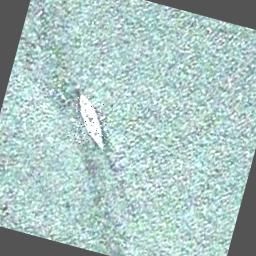boat: (66, 92, 116, 150)
